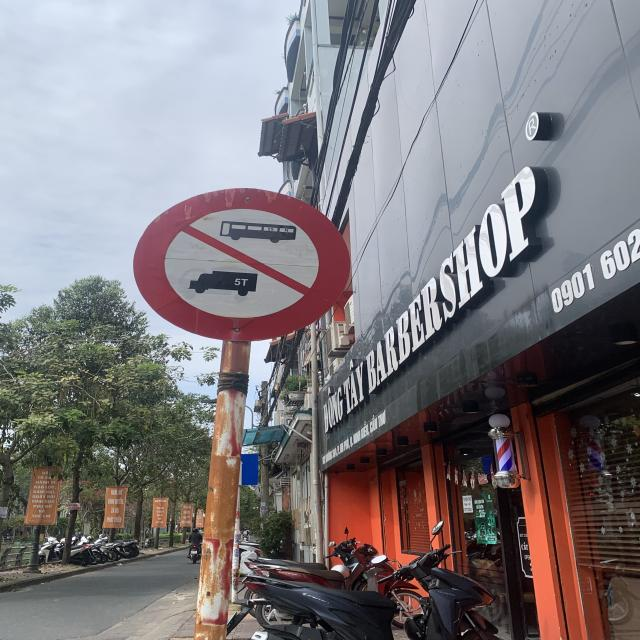Cam_XeTai_XeKhach: (134, 186, 353, 343)
